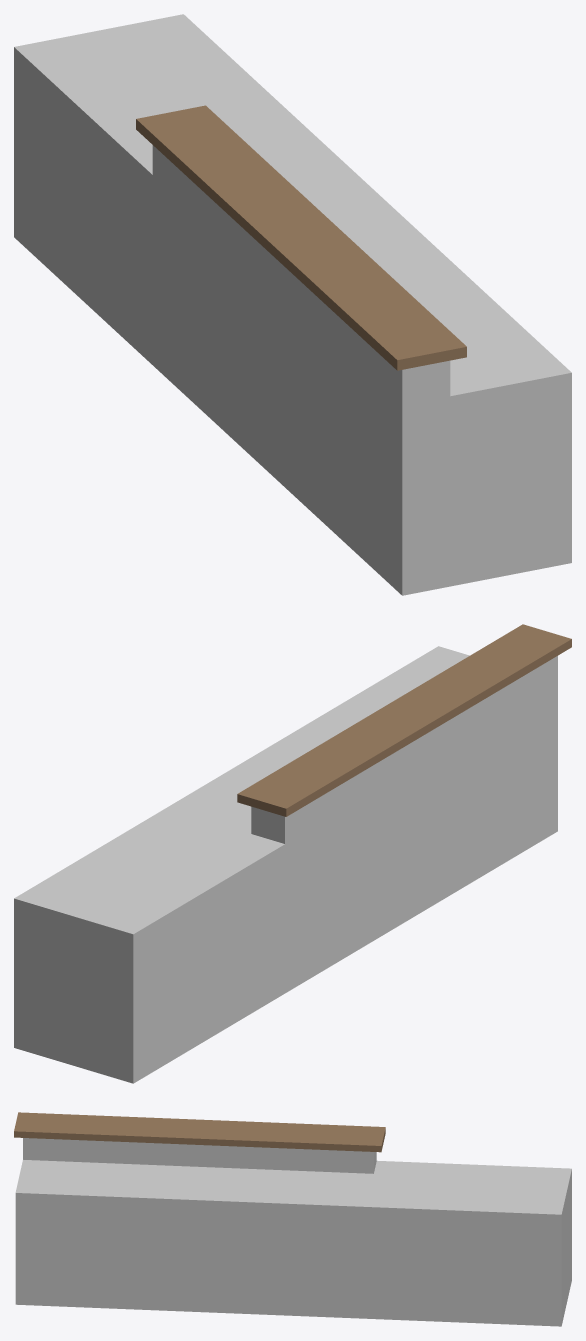
File: BOD_Counter_v1.glb
3 renders of one model, top to bottom at view 1: azimuth 30°, elevation 25°; view 2: azimuth 150°, elevation 25°; view 3: azimuth 270°, elevation 25°, orthographic. The views are drawn at different scales.
Visible parts, largest first — view 1: Kitchen; view 2: Kitchen; view 3: Kitchen.
Boxes of the visible parts, x1,y1,x2,y2 form: Kitchen: [14, 14, 571, 595]; Kitchen: [14, 624, 571, 1083]; Kitchen: [14, 1112, 571, 1326].
Bounding box in the file's own units: 0.123 × 0.115 × 0.4069.
